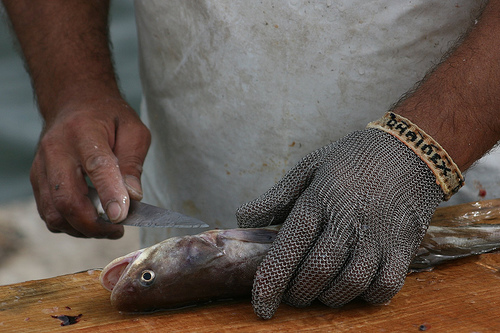fish: (102, 222, 499, 311)
